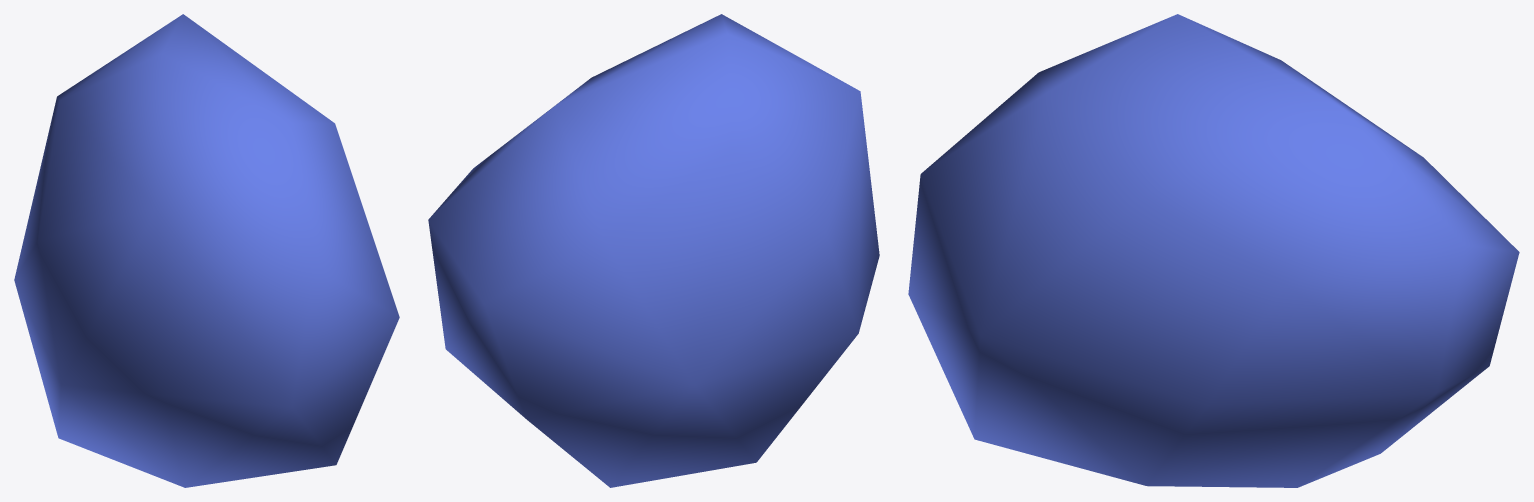
3 views of the same model, side by side, from view 1: azimuth 30°, elevation 25°; view 2: azimuth 150°, elevation 25°; view 3: azimuth 270°, elevation 25° (orthographic). The views are drawn at different scales.
Visible parts, largest first — view 1: GR_F; view 2: GR_F; view 3: GR_F.
Boxes of the visible parts, x1,y1,x2,y2 form: GR_F: (14, 14, 399, 487); GR_F: (428, 14, 879, 487); GR_F: (908, 14, 1519, 487).
Bounding box in the file's own units: 4.61 × 5.52 × 7.
